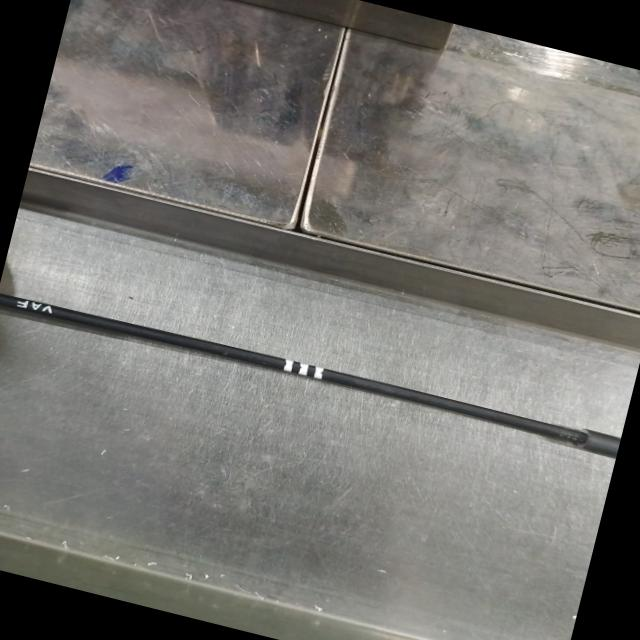white: (282, 359, 325, 380)
